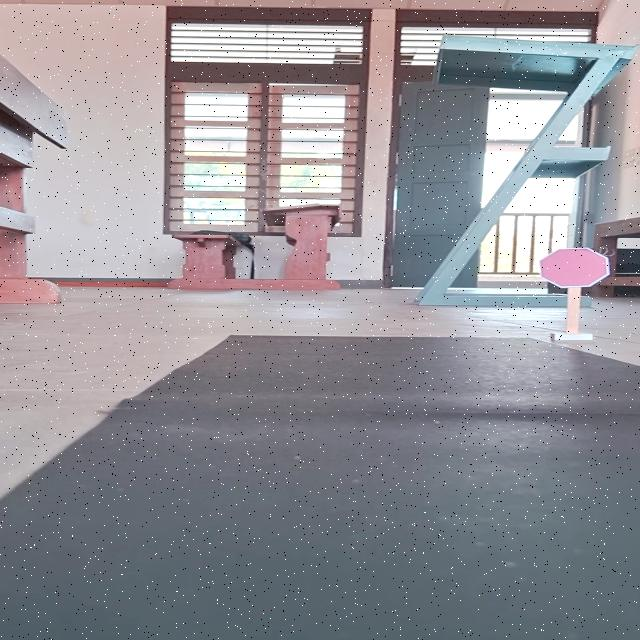Stop: (536, 246, 612, 288)
